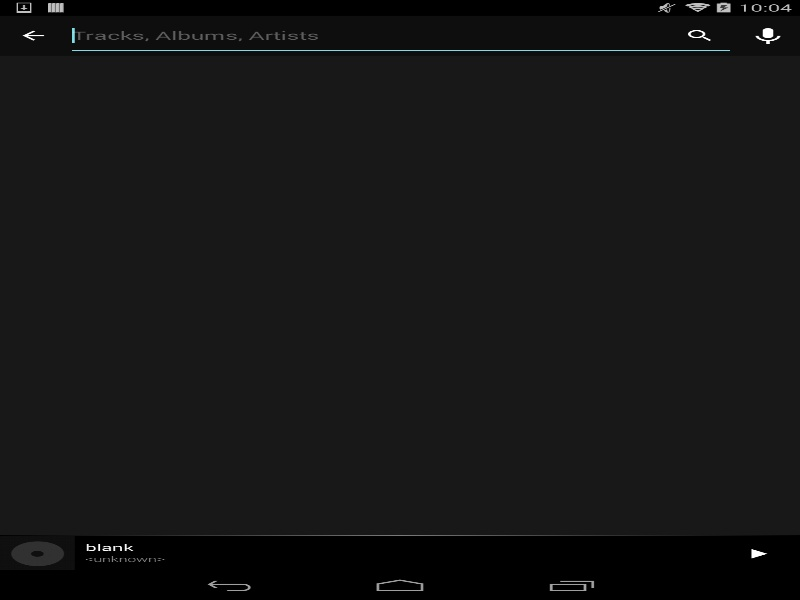Button: (664, 15, 736, 55), (0, 15, 66, 55)
Input: (66, 15, 735, 55)
